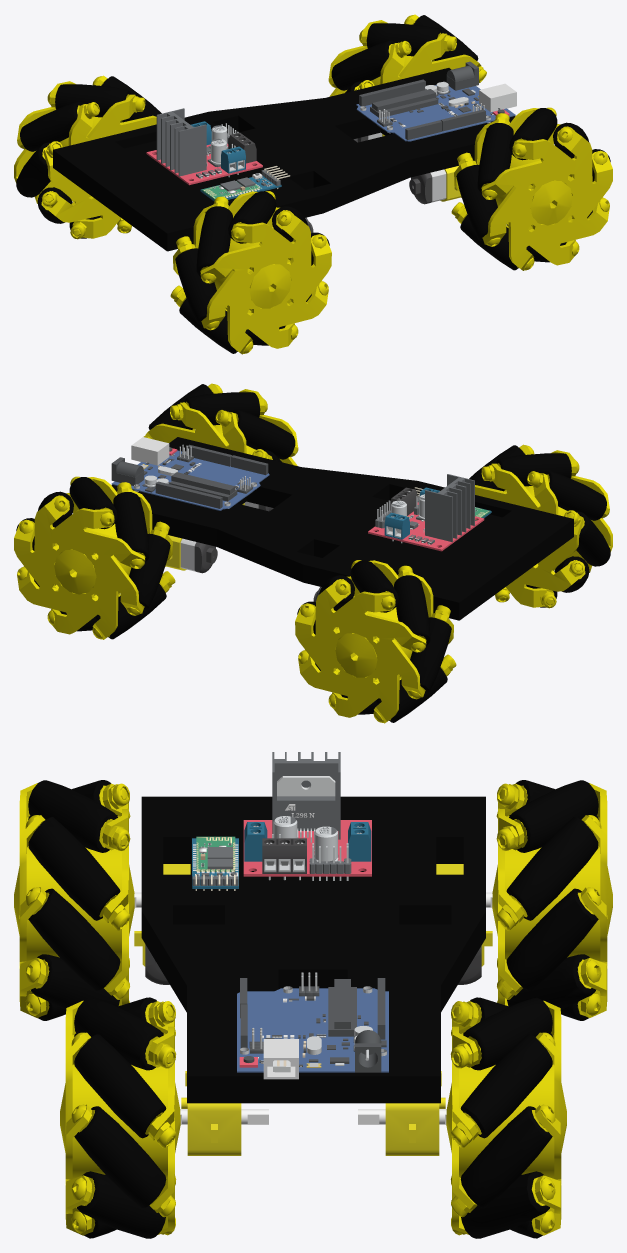
3 views of the same model, one above another, from view 1: azimuth 30°, elevation 25°; view 2: azimuth 150°, elevation 25°; view 3: azimuth 270°, elevation 25° (orthographic). The views are drawn at different scales.
Visible parts, largest first — view 1: Plane.001, Mecanum Wheel.004, Mecanum Wheel.002, Mecanum Wheel.001, Button_Low, Mecanum Wheel.003, obj_0.001, obj_0.011, Modulo bluethoot; view 2: Plane.001, Mecanum Wheel.003, Mecanum Wheel.001, Mecanum Wheel.002, Button_Low, Mecanum Wheel.004, obj_0.001, obj_0.004; view 3: Plane.001, Mecanum Wheel.003, Mecanum Wheel.004, Mecanum Wheel.001, Mecanum Wheel.002, Button_Low, obj_0.001, obj_0.011, obj_0.004, Modulo bluethoot, obj_0.003, obj_0.005.
Part boxes in pixels (x1=…): Plane.001: x1=53, y1=68, x2=515, y2=251; Mecanum Wheel.004: x1=451, y1=107, x2=612, y2=270; Mecanum Wheel.002: x1=170, y1=191, x2=331, y2=354; Mecanum Wheel.001: x1=14, y1=75, x2=161, y2=239; Button_Low: x1=356, y1=61, x2=516, y2=141; Mecanum Wheel.003: x1=328, y1=14, x2=486, y2=96; obj_0.001: x1=146, y1=108, x2=262, y2=185; obj_0.011: x1=409, y1=166, x2=461, y2=204; Modulo bluethoot: x1=200, y1=166, x2=290, y2=200; Plane.001: x1=111, y1=437, x2=573, y2=620; Mecanum Wheel.003: x1=14, y1=476, x2=175, y2=639; Mecanum Wheel.001: x1=295, y1=560, x2=456, y2=723; Mecanum Wheel.002: x1=469, y1=444, x2=612, y2=608; Button_Low: x1=111, y1=437, x2=269, y2=510; Mecanum Wheel.004: x1=143, y1=383, x2=298, y2=465; obj_0.001: x1=368, y1=474, x2=484, y2=551; obj_0.004: x1=165, y1=535, x2=217, y2=573; Plane.001: x1=141, y1=796, x2=485, y2=1103; Mecanum Wheel.003: x1=446, y1=997, x2=566, y2=1238; Mecanum Wheel.004: x1=60, y1=997, x2=180, y2=1238; Mecanum Wheel.001: x1=492, y1=780, x2=612, y2=1020; Mecanum Wheel.002: x1=14, y1=780, x2=134, y2=1020; Button_Low: x1=237, y1=972, x2=388, y2=1079; obj_0.001: x1=243, y1=752, x2=371, y2=880; obj_0.011: x1=180, y1=1071, x2=268, y2=1155; obj_0.004: x1=358, y1=1071, x2=446, y2=1155; Modulo bluethoot: x1=192, y1=836, x2=238, y2=890; obj_0.003: x1=134, y1=864, x2=190, y2=984; obj_0.005: x1=436, y1=864, x2=492, y2=984.
Size of the model in its own units: 0.2504 by 0.0919 by 0.2005.
